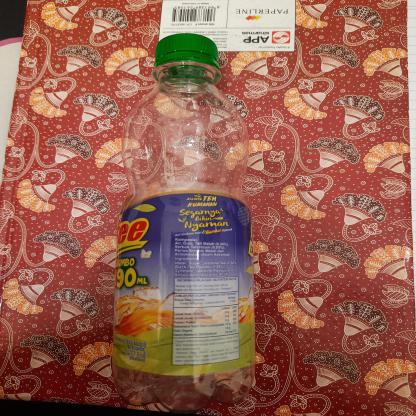bottle: (104, 32, 259, 413)
